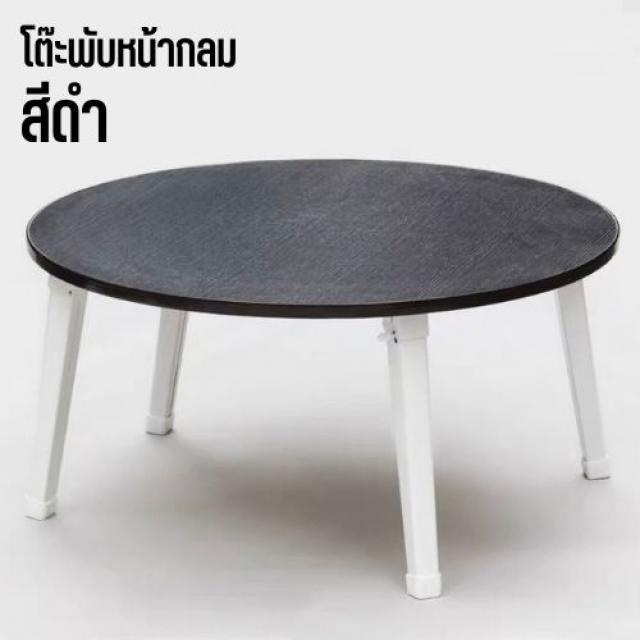table: (16, 144, 628, 610)
